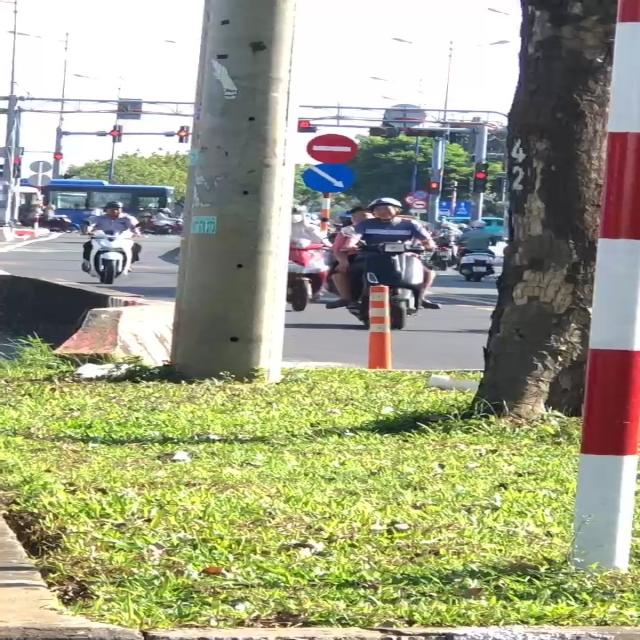Bien bao cam di nguoc chieu: (303, 133, 358, 162)
Bien bao huong phai di vong chuong ngai vat: (303, 162, 356, 194)
